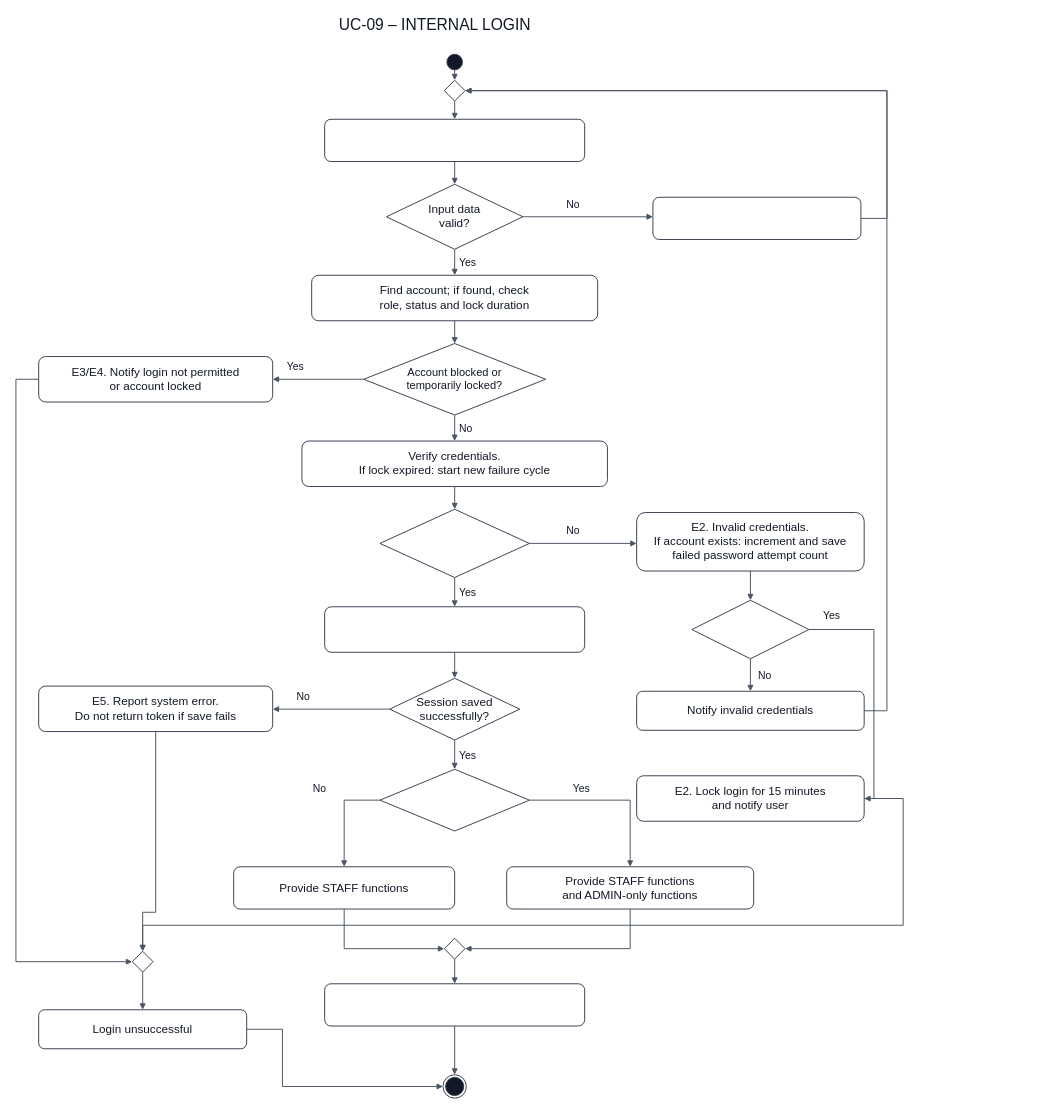
The diagram is 1064 pixels wide and 1110 high, and some of its shapes have lost their labels. The shapes that lost their labels are listed below. From the top down, each one's centre as x and y in pixels, then its label:
point (454, 140): Enter email, password and select Login
point (756, 218): E1. Notify invalid input data
point (454, 543): Credentials correct?
point (454, 629): Reset failure counter; create and persist login session
point (750, 629): 5 consecutive failures reached?
point (454, 799): ADMIN role?
point (454, 1004): Save session in browser and open role-based internal page
